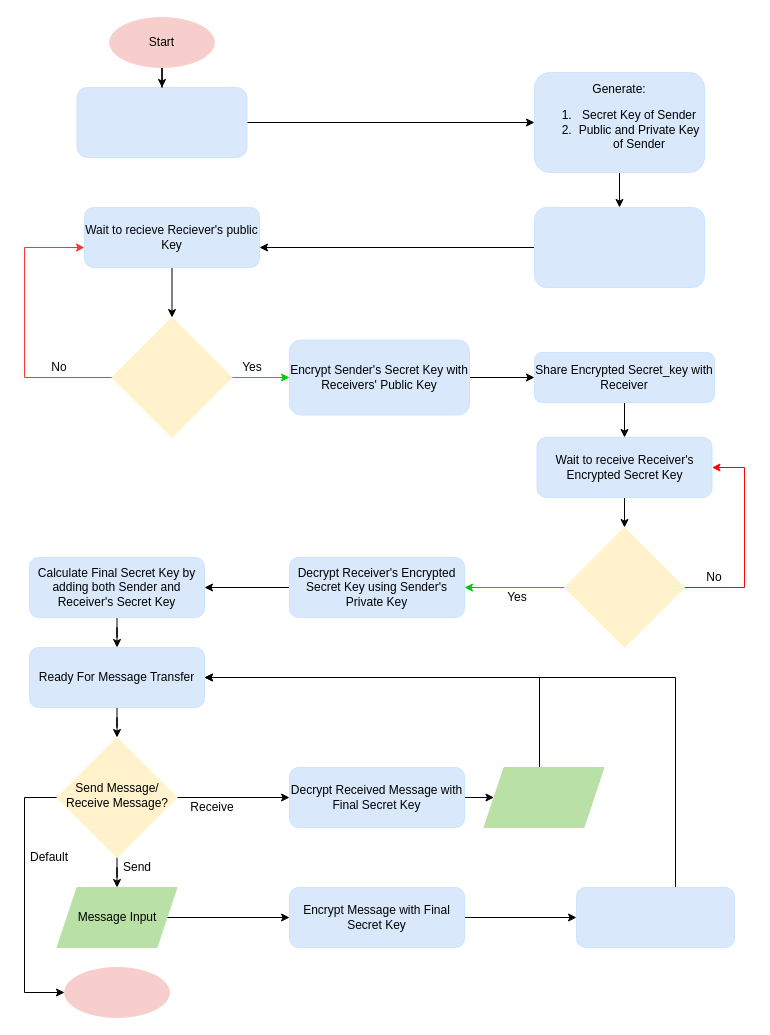
Some shapes in this 770 by 1035 pixel diagram are drawn without their labels. Each missing label, with the box of its shape:
Display Message: (483, 766, 604, 828)
End: (64, 966, 170, 1018)
Establish connection with Server: (76, 86, 247, 158)
Receiver's Encrypted Secret Key received?: (564, 526, 684, 648)
Reciever's Public Key recieved?: (111, 316, 232, 438)
Send Encrypted Message: (576, 886, 734, 948)
Share Public Key of Sender with Reciever: (534, 206, 704, 288)
